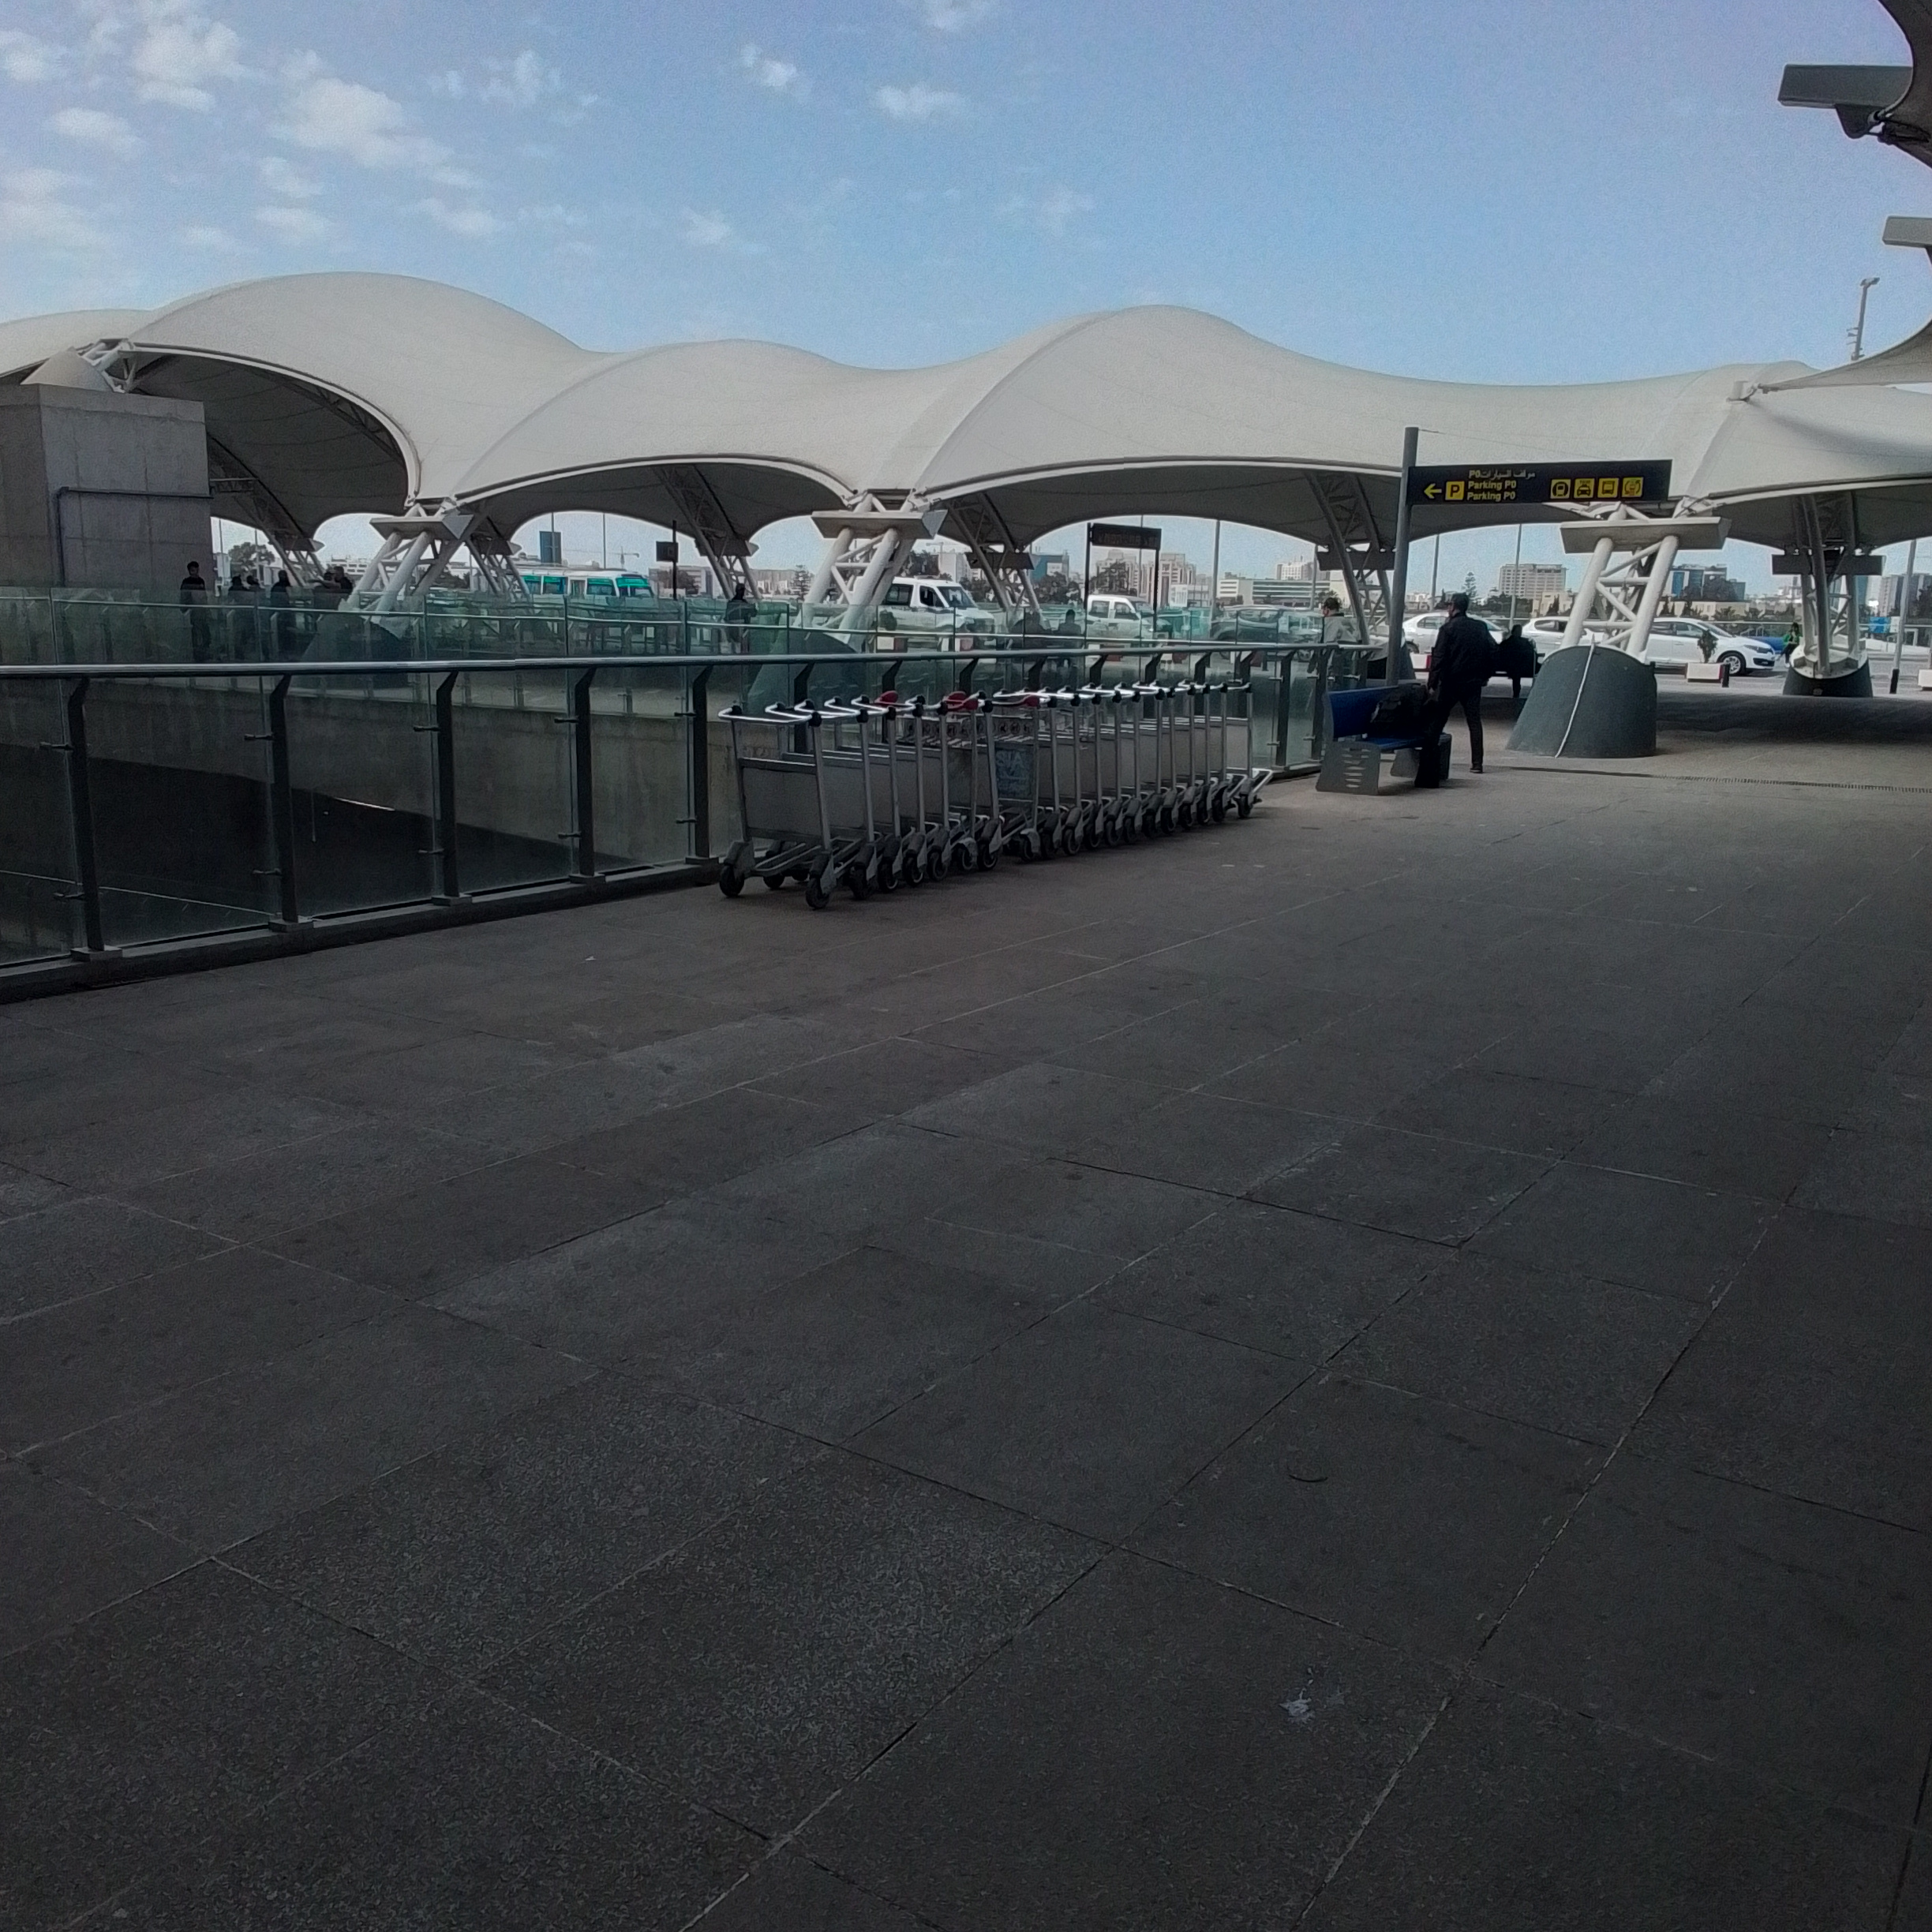airport-trolley: (717, 706, 858, 902), (764, 694, 893, 890), (800, 686, 920, 892), (823, 685, 941, 879), (874, 685, 980, 876), (1010, 681, 1108, 865), (970, 686, 1047, 860), (1054, 688, 1129, 860), (1074, 678, 1146, 847), (1123, 676, 1184, 839), (1150, 672, 1212, 826), (1178, 672, 1235, 824), (1223, 674, 1276, 814)
